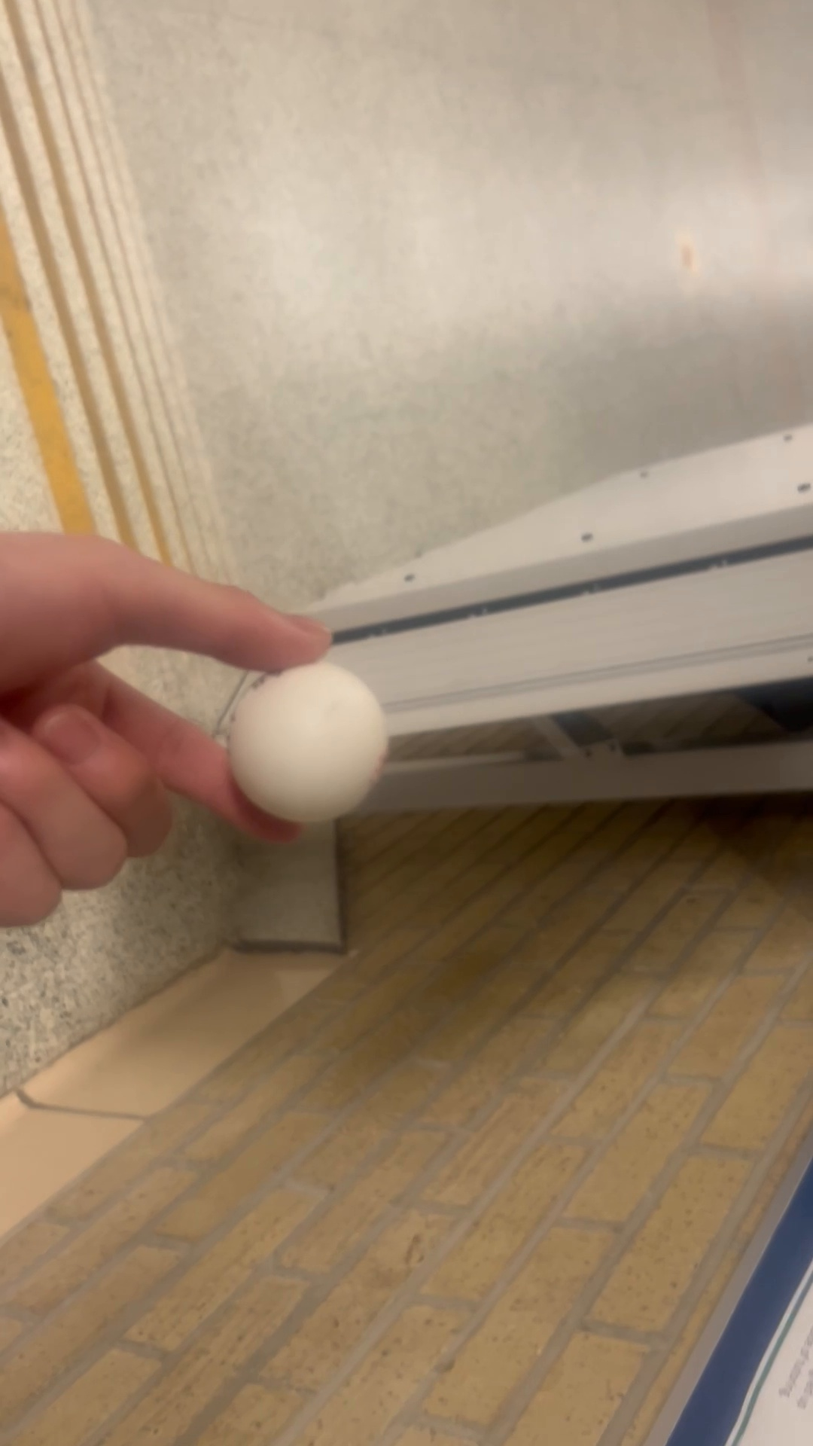Ball: (213, 643, 395, 836)
